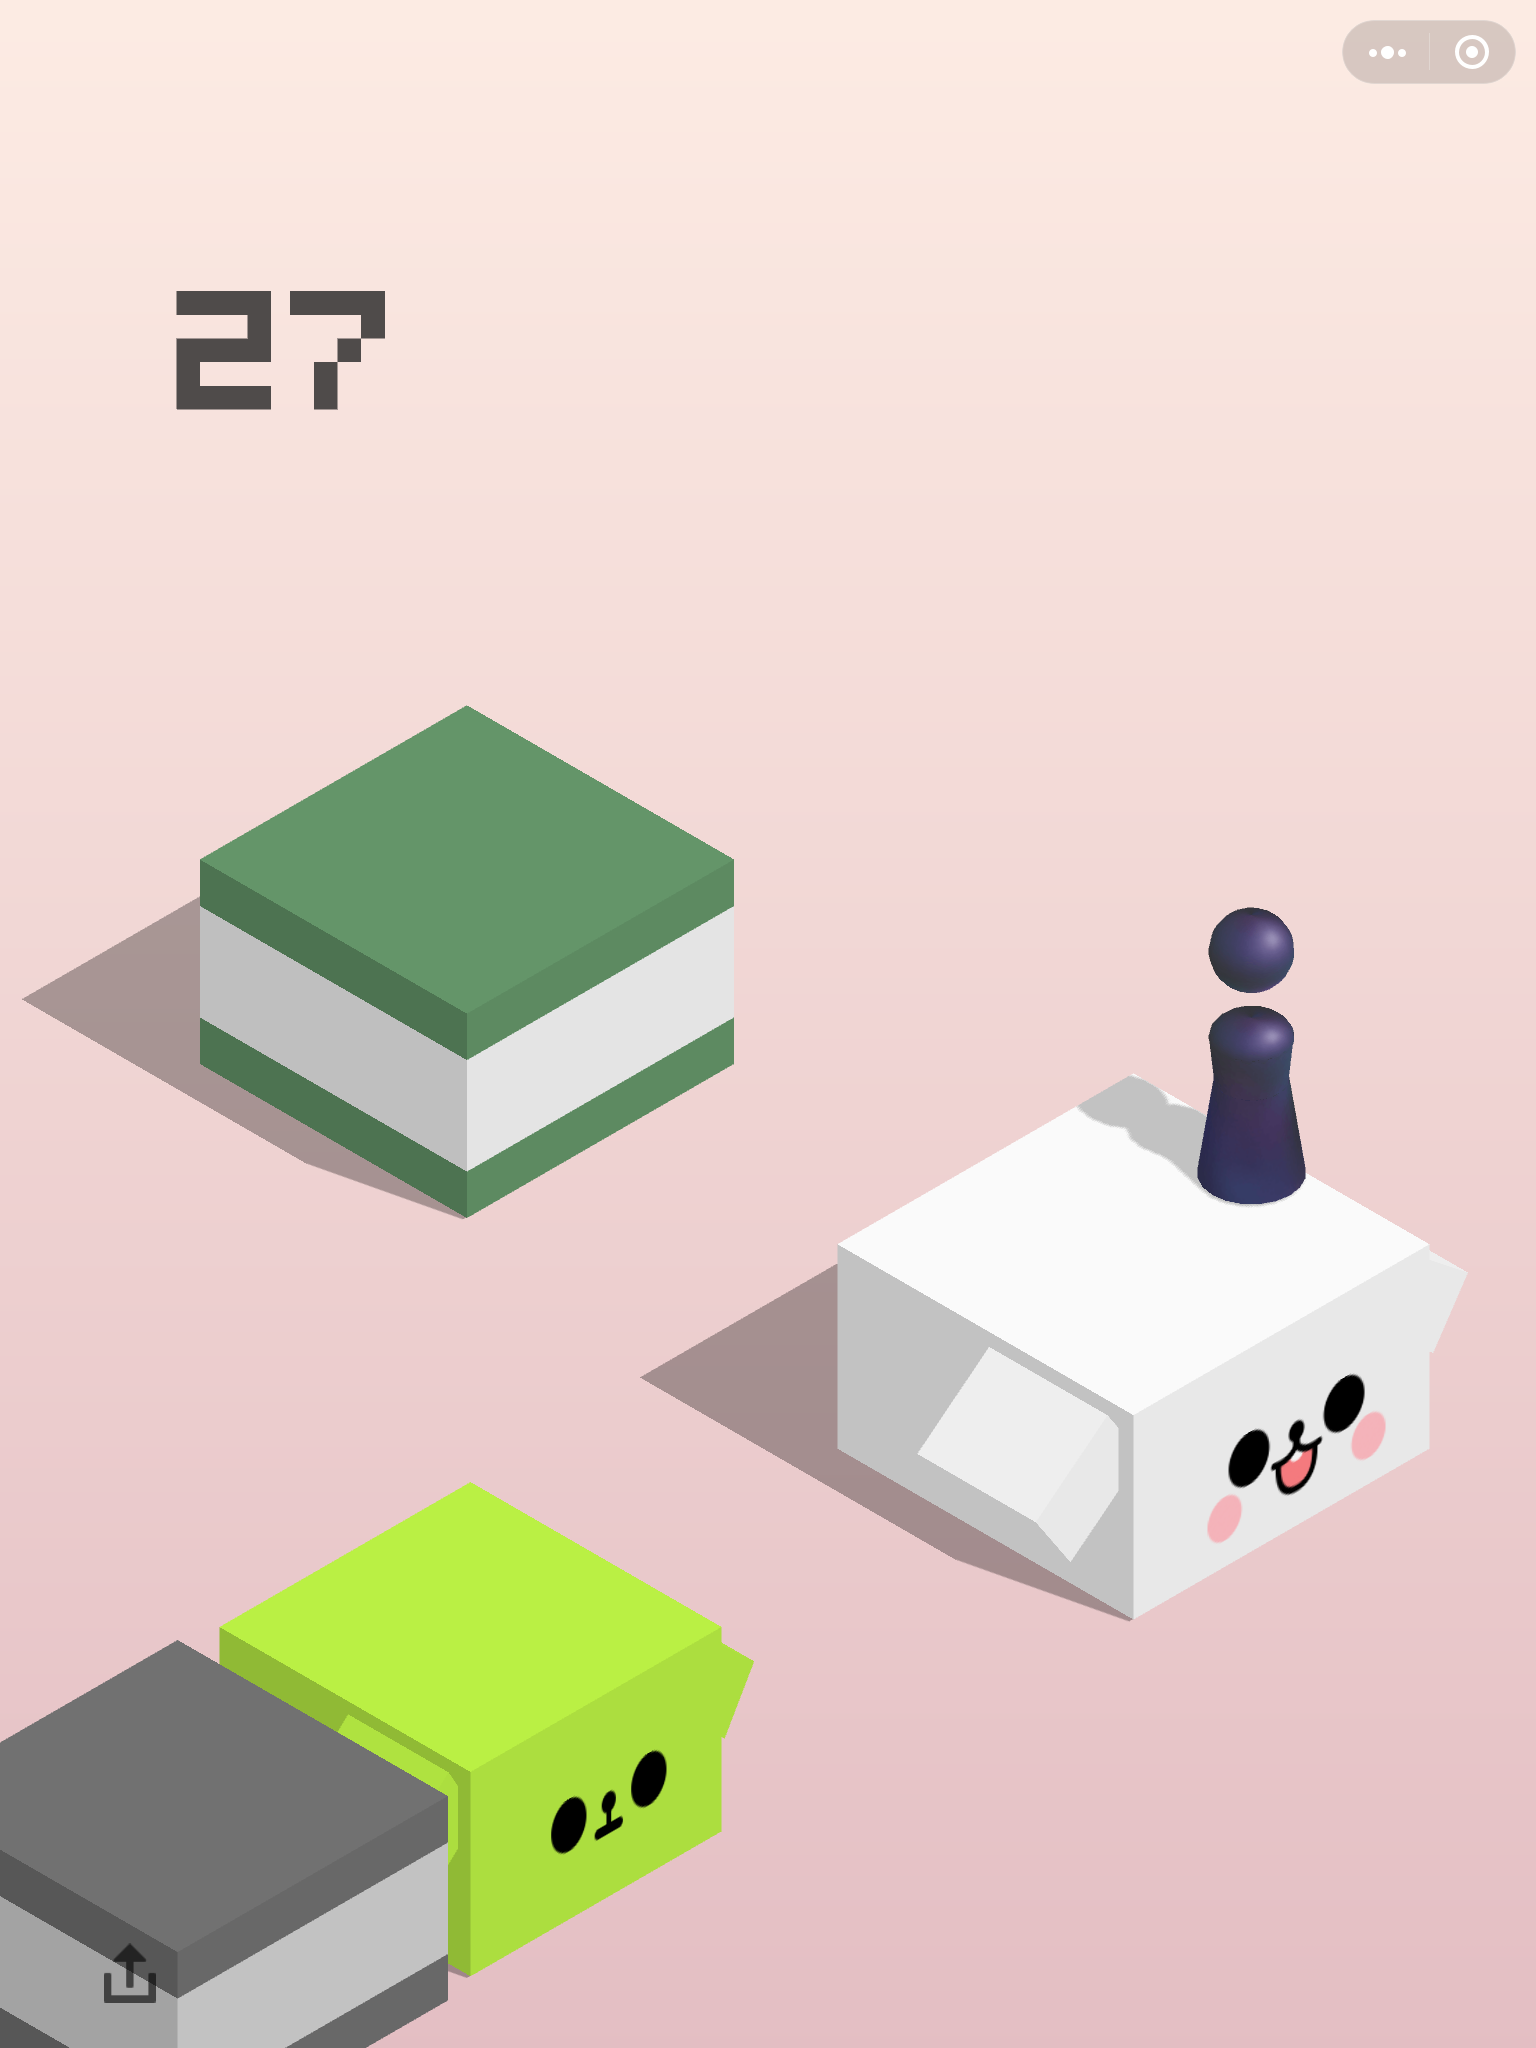f: (834, 1068, 1471, 1625), (194, 701, 741, 1224), (215, 1476, 762, 1980), (2, 1634, 453, 2048)
